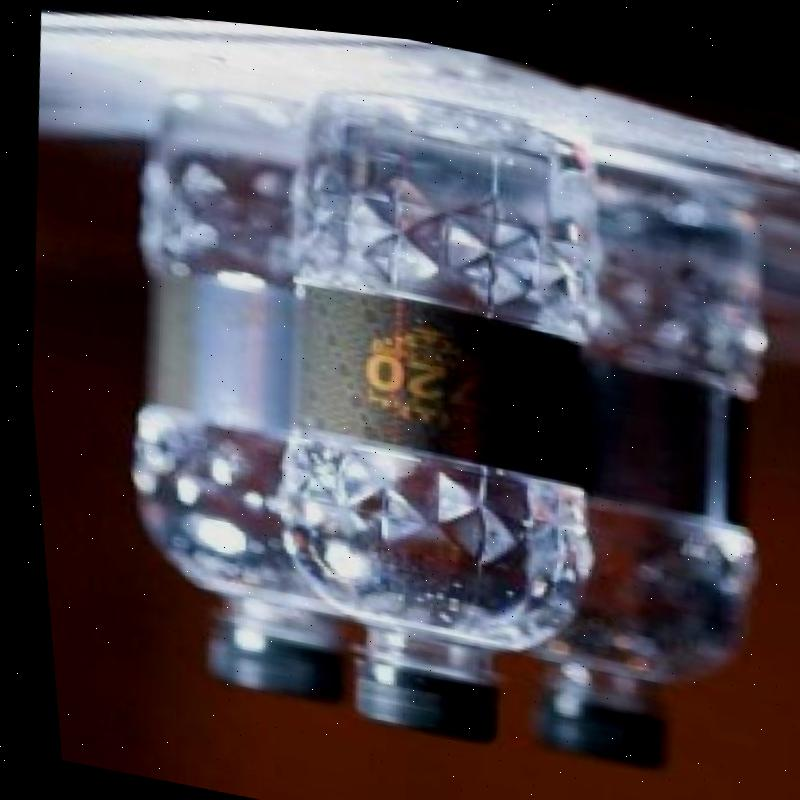botella: (214, 64, 641, 762), (459, 137, 800, 792), (73, 80, 413, 715)
